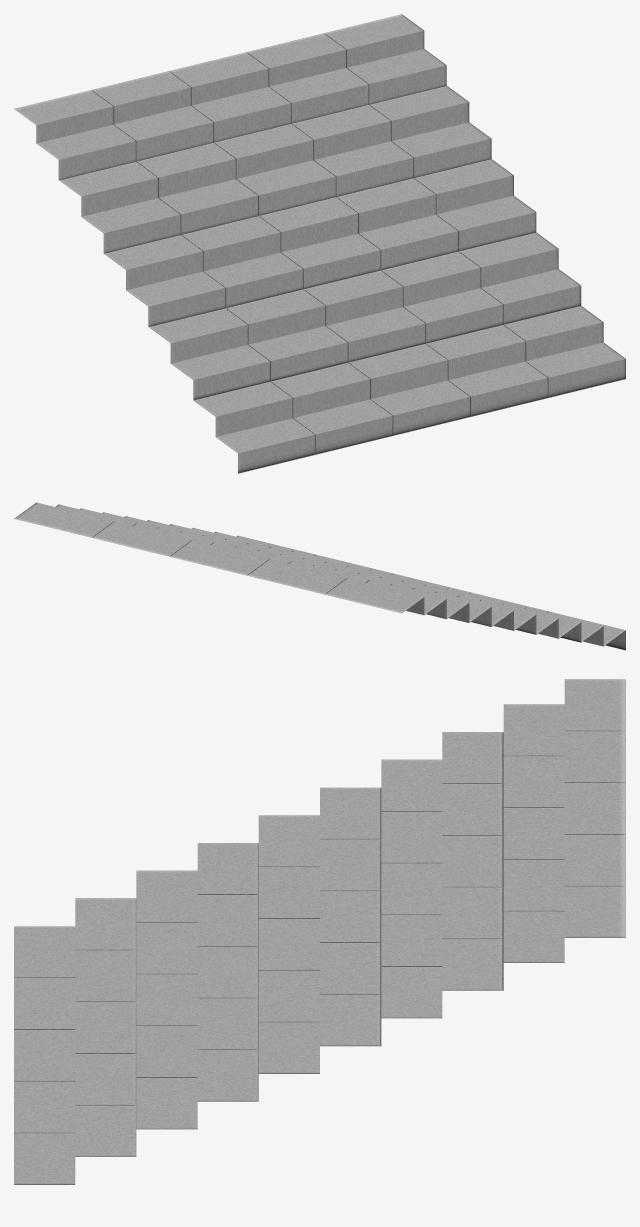
Rendered from Tileset Placeholder Stairs Short.FBX.
3 views of the same model, one above another, from view 1: azimuth 30°, elevation 25°; view 2: azimuth 150°, elevation 25°; view 3: azimuth 270°, elevation 25° (orthographic). The views are drawn at different scales.
Visible parts, largest first — view 1: Placeholder Stairs Short; view 2: Placeholder Stairs Short; view 3: Placeholder Stairs Short.
Part boxes in pixels (x1,y1,x2,y2): Placeholder Stairs Short: (14, 14, 625, 473); Placeholder Stairs Short: (14, 502, 625, 650); Placeholder Stairs Short: (14, 679, 625, 1184).
Size of the model in its own units: 2.54 by 1.26 by 2.54.
Materials: 1 (1 with a texture image).
